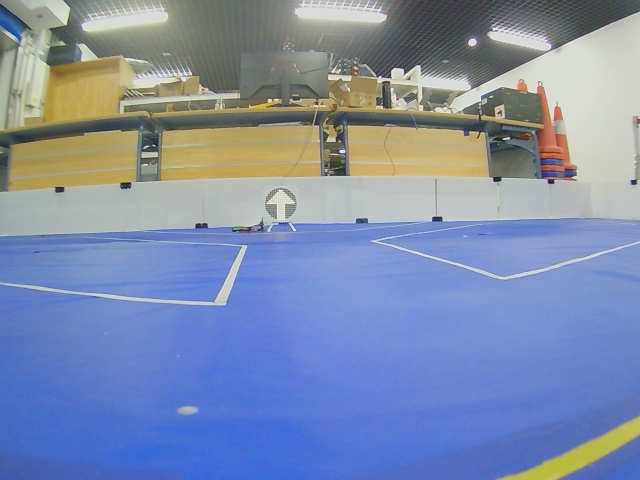straight_yellow: (265, 188, 297, 221)
